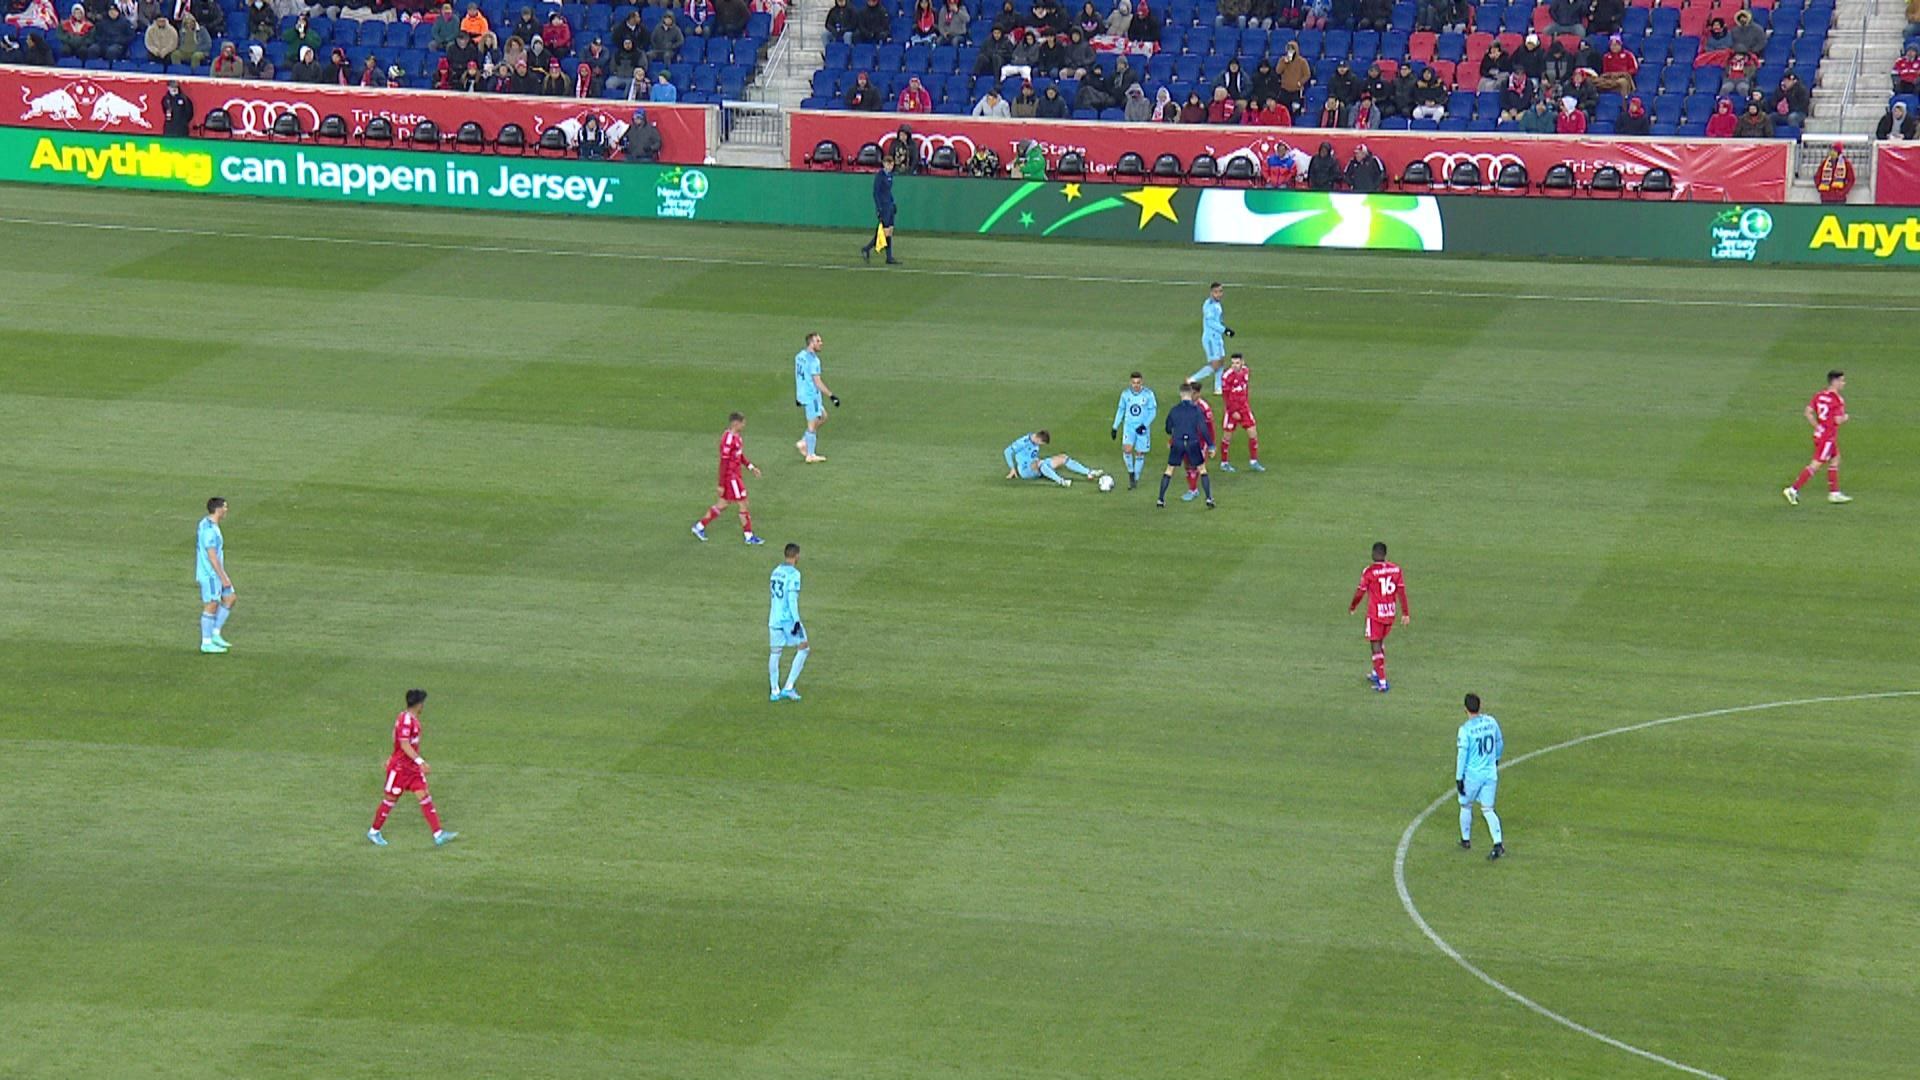football: (1098, 475, 1115, 493)
